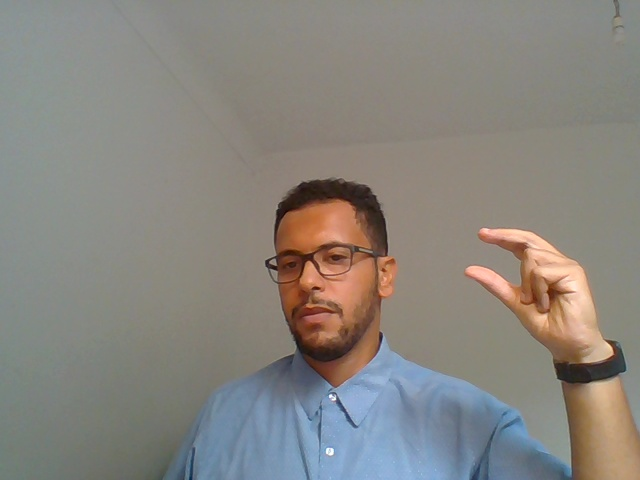no: (438, 194, 630, 419)
